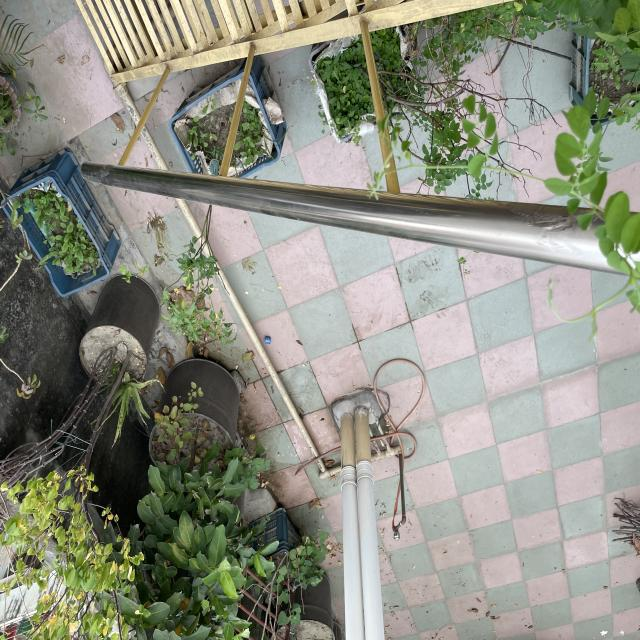Breeding Place: (4, 154, 105, 302), (152, 352, 245, 492), (173, 75, 285, 179), (81, 280, 170, 393)
